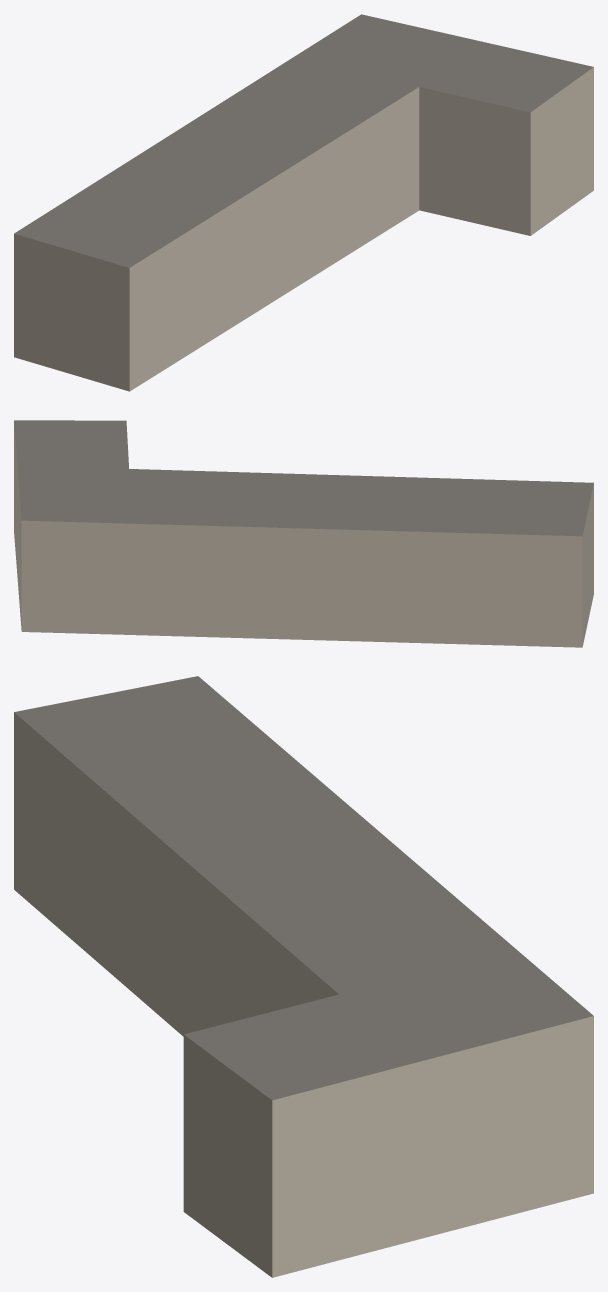
The picture shows the model from 3 angles, top to bottom: view 1: azimuth 30°, elevation 25°; view 2: azimuth 150°, elevation 25°; view 3: azimuth 270°, elevation 25°; orthographic projection. The views are drawn at different scales.
Parts seen in each view (by area): view 1: HP-w505643597; view 2: HP-w505643597; view 3: HP-w505643597.
Part boxes in pixels (x1,y1,x2,y2): HP-w505643597: [14, 14, 593, 391]; HP-w505643597: [14, 420, 593, 647]; HP-w505643597: [14, 676, 593, 1277].
Bounding box in the file's own units: 61.53 × 12 × 35.53.
